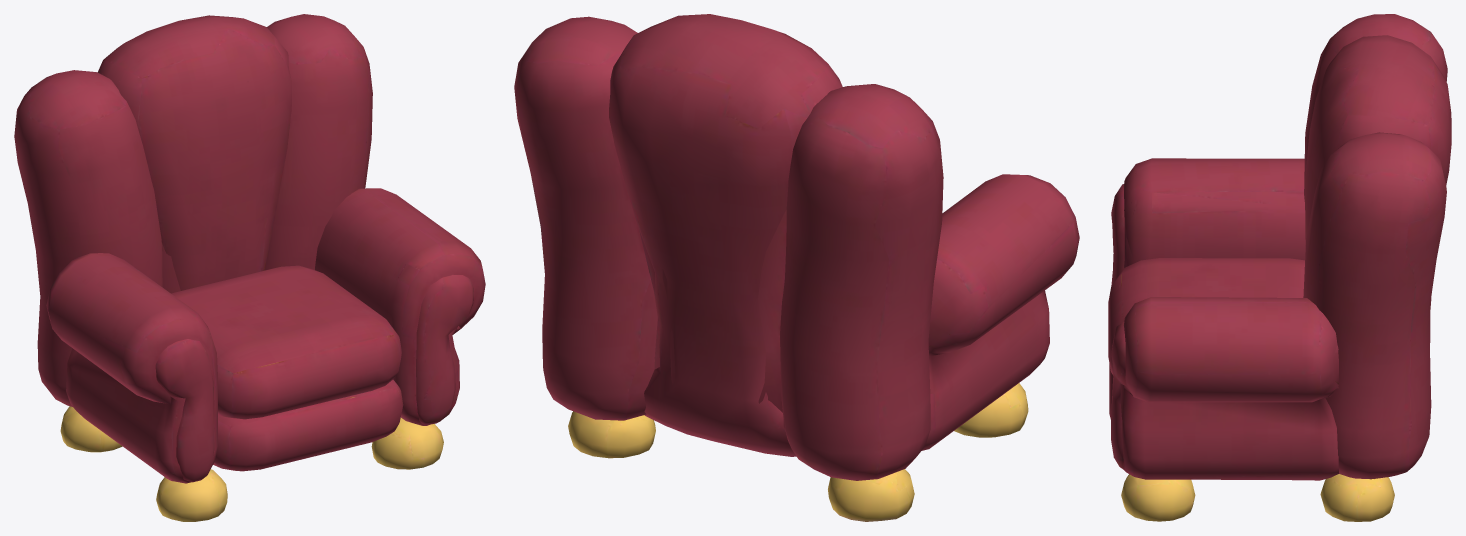
File: velvet-armchair.glb
The picture shows the model from 3 angles, left to right: view 1: azimuth 30°, elevation 25°; view 2: azimuth 150°, elevation 25°; view 3: azimuth 270°, elevation 25°; orthographic projection. The views are drawn at different scales.
Parts seen in each view (by area): view 1: geometry_0; view 2: geometry_0; view 3: geometry_0.
Part boxes in pixels (x1,y1,x2,y2): geometry_0: (14, 14, 485, 521); geometry_0: (514, 14, 1079, 521); geometry_0: (1108, 14, 1451, 521).
Bounding box in the file's own units: 0.9945 × 1 × 0.7775.
1 material, 1 textured.
